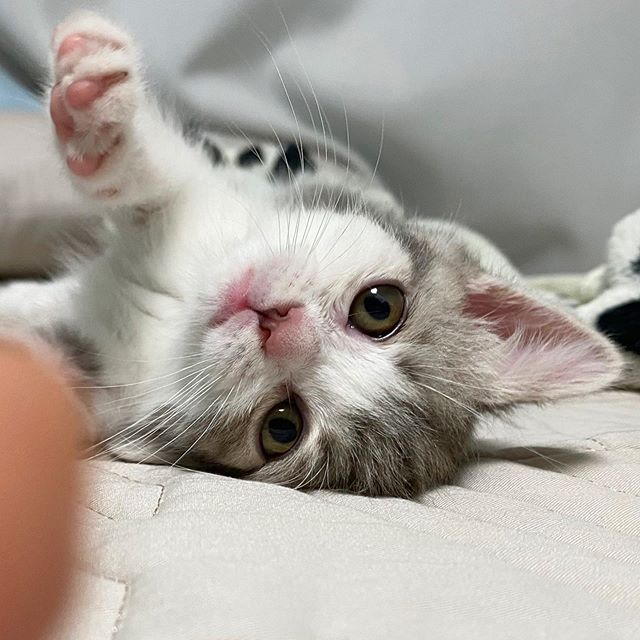cat: (168, 188, 628, 543)
